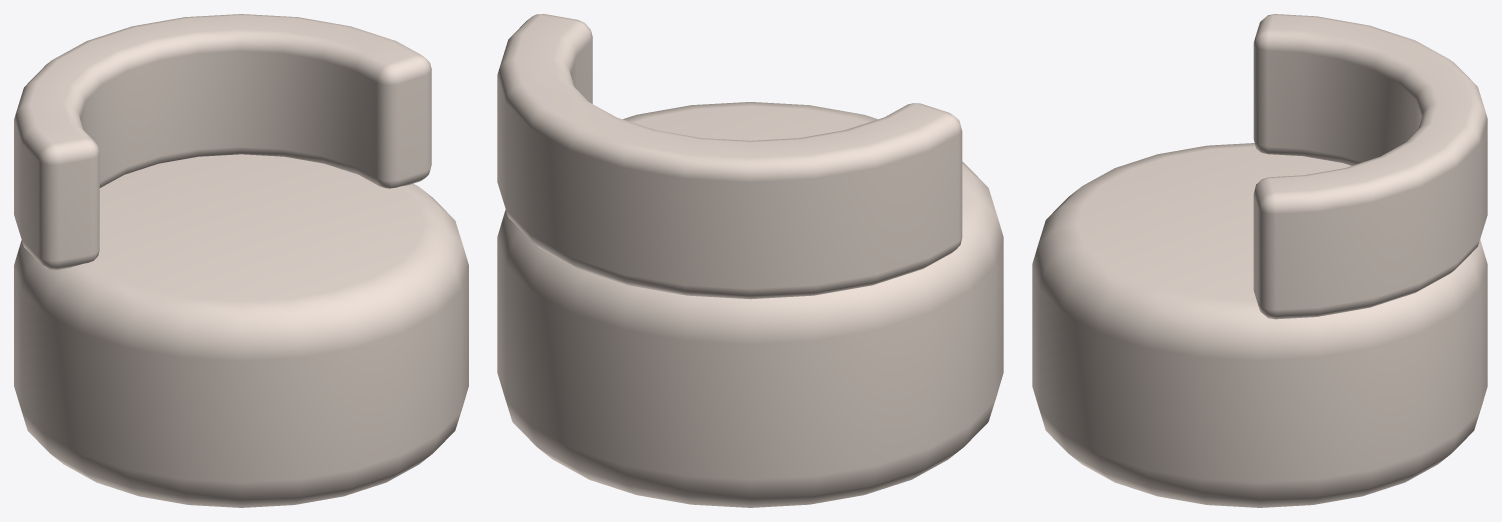
Rendered from chair1.glb.
3 views of the same model, side by side, from view 1: azimuth 30°, elevation 25°; view 2: azimuth 150°, elevation 25°; view 3: azimuth 270°, elevation 25° (orthographic). The views are drawn at different scales.
Parts seen in each view (by area): view 1: SM_Armchair_1; view 2: SM_Armchair_1; view 3: SM_Armchair_1.
Boxes of the visible parts, box(x1,y1,x2,y2) form: SM_Armchair_1: box(14, 14, 468, 507); SM_Armchair_1: box(497, 14, 1003, 507); SM_Armchair_1: box(1032, 14, 1487, 507).
Bounding box in the file's own units: 1.31 × 1.02 × 1.31.
Materials: 1 (1 with a texture image).
